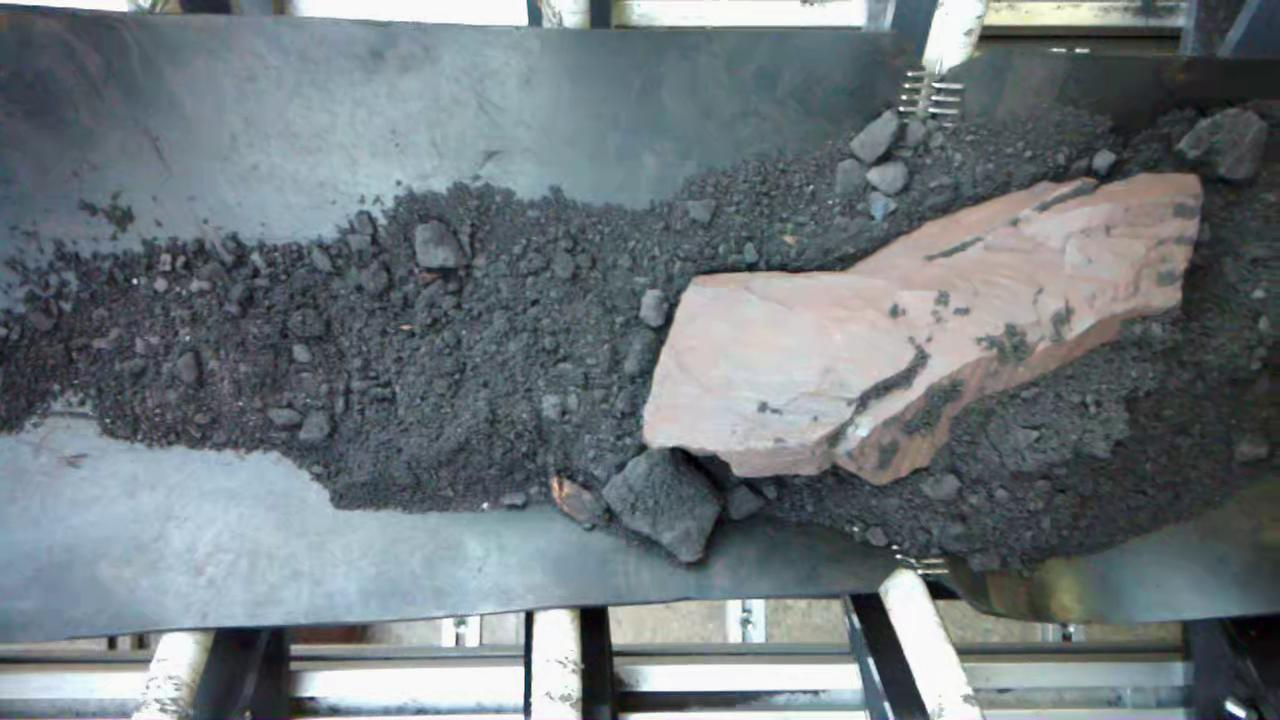conveyor: (3, 50, 1280, 596)
